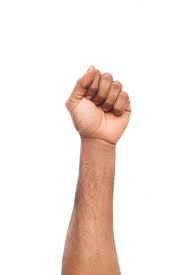closed: (64, 65, 132, 144)
